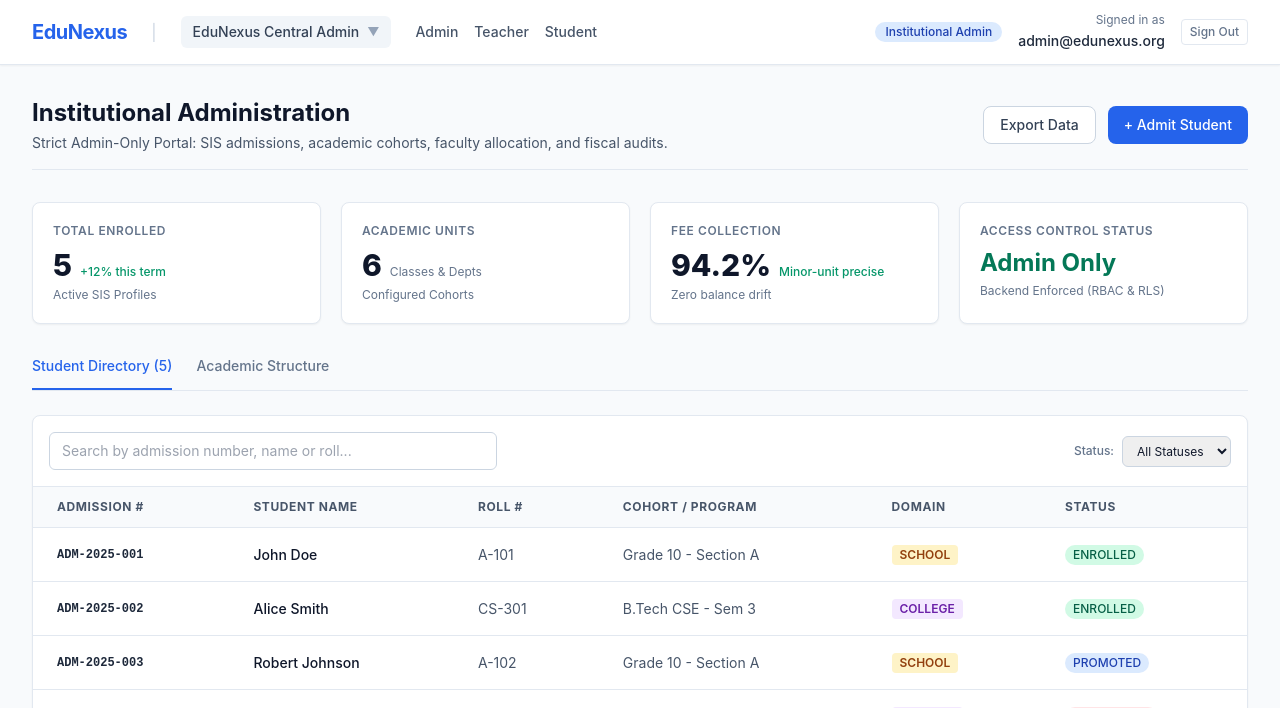
AdminDashboard Component › renders admin metrics, student table, and supports filtering for authorized admins
Expected: the heading "Institutional Administration" is shown, top-left (32, 98), bottom-right (350, 127)
Expected: the text "Total Enrolled" is shown, top-left (53, 223), bottom-right (166, 238)
// Test search filter
Type "Alice" into the field with placeholder "Search by admission number, name or roll..." at (273, 451), box top-left (49, 432), bottom-right (497, 470)
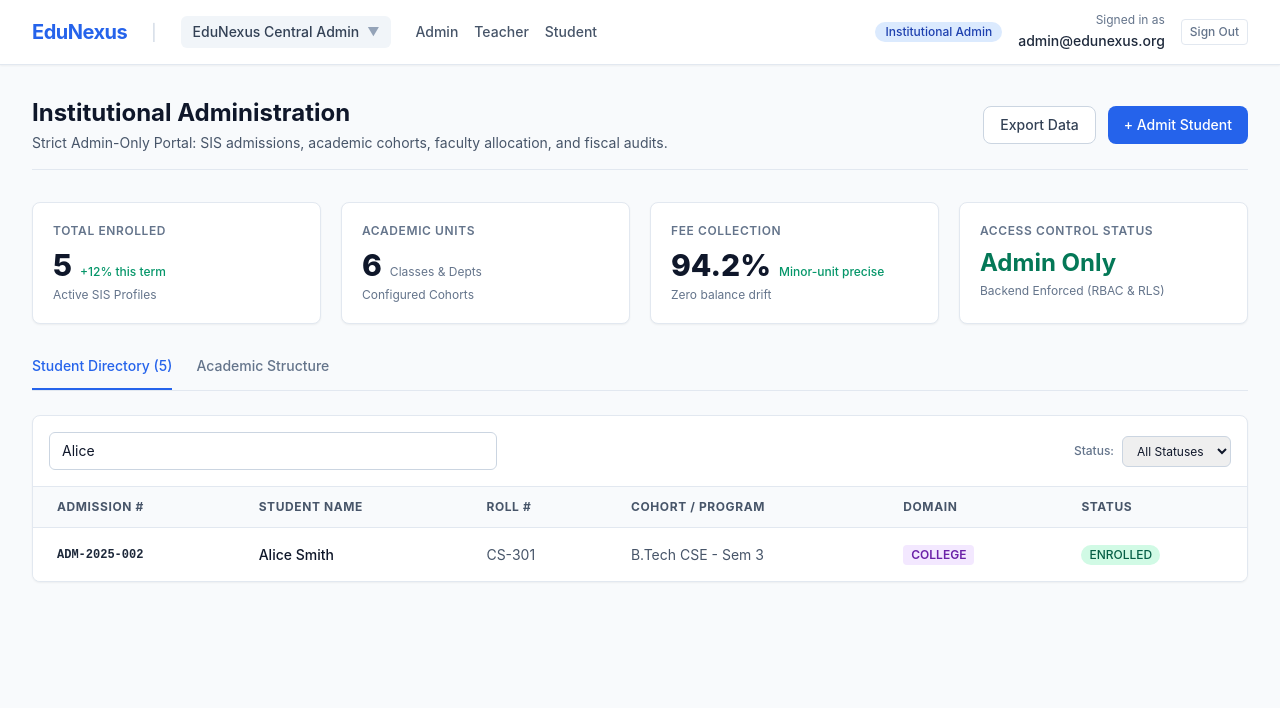
Expected: the text "Alice Smith" is shown, top-left (235, 528), bottom-right (462, 581)
Expected: the text "John Doe" is gone
// Clear search filter
Clear the field with placeholder "Search by admission number, name or roll..." at (273, 451), box top-left (49, 432), bottom-right (497, 470)
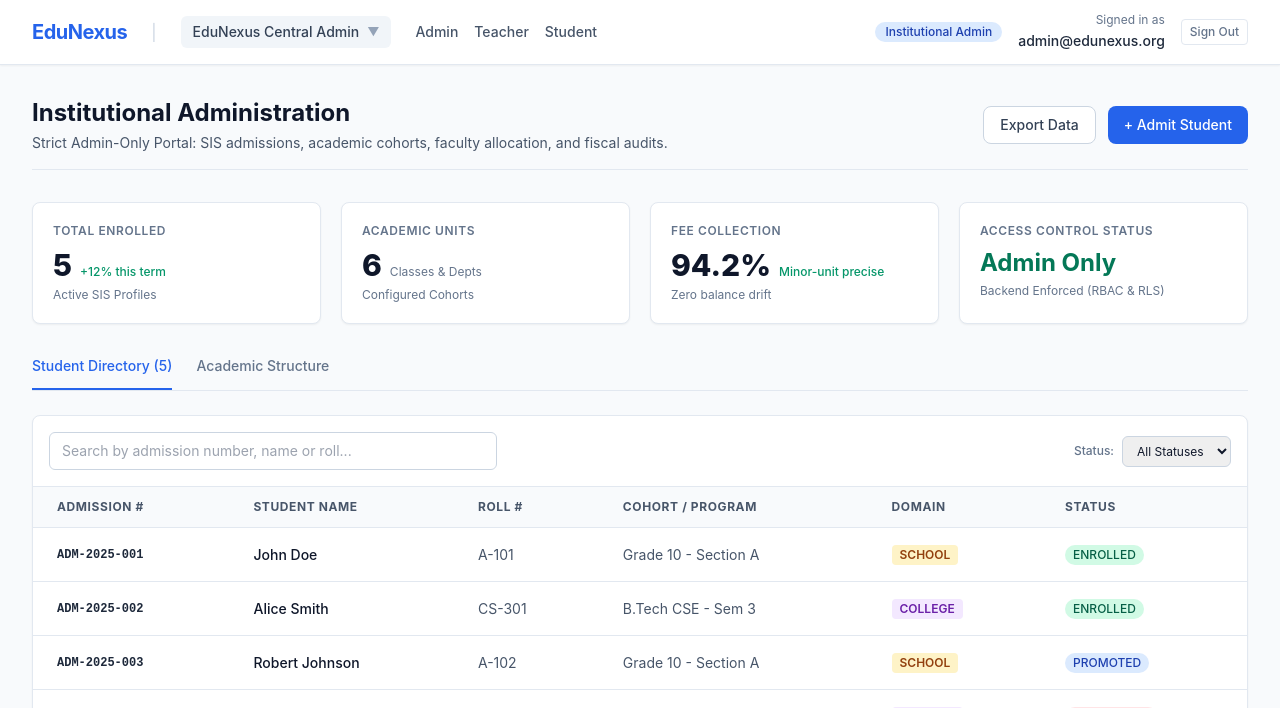
Expected: the text "John Doe" is shown, top-left (230, 528), bottom-right (454, 582)
